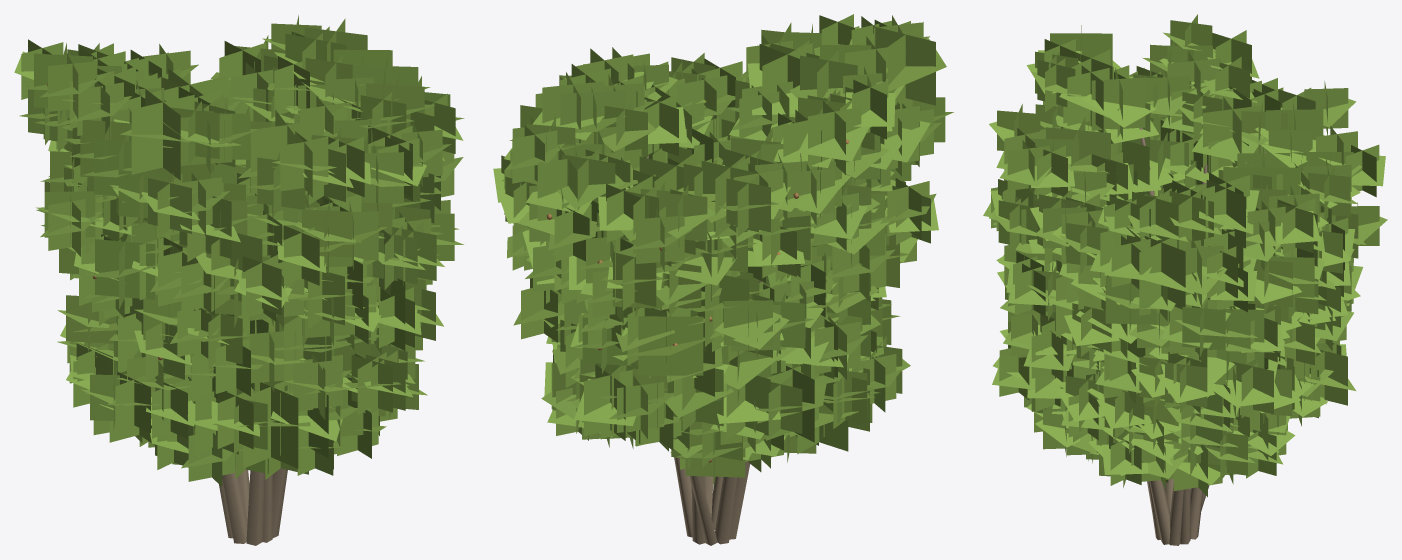
The model's file is noisetier_3_jeu.glb.
3 views of the same model, side by side, from view 1: azimuth 30°, elevation 25°; view 2: azimuth 150°, elevation 25°; view 3: azimuth 270°, elevation 25° (orthographic). The views are drawn at different scales.
Parts seen in each view (by area): view 1: Noisetier_T3_Leger; view 2: Noisetier_T3_Leger; view 3: Noisetier_T3_Leger.
Part boxes in pixels (<box>): Noisetier_T3_Leger: <box>14,15,464,545</box>; Noisetier_T3_Leger: <box>493,14,953,545</box>; Noisetier_T3_Leger: <box>983,14,1387,545</box>.
Bounding box in the file's own units: 5.18 × 5.82 × 4.83.
